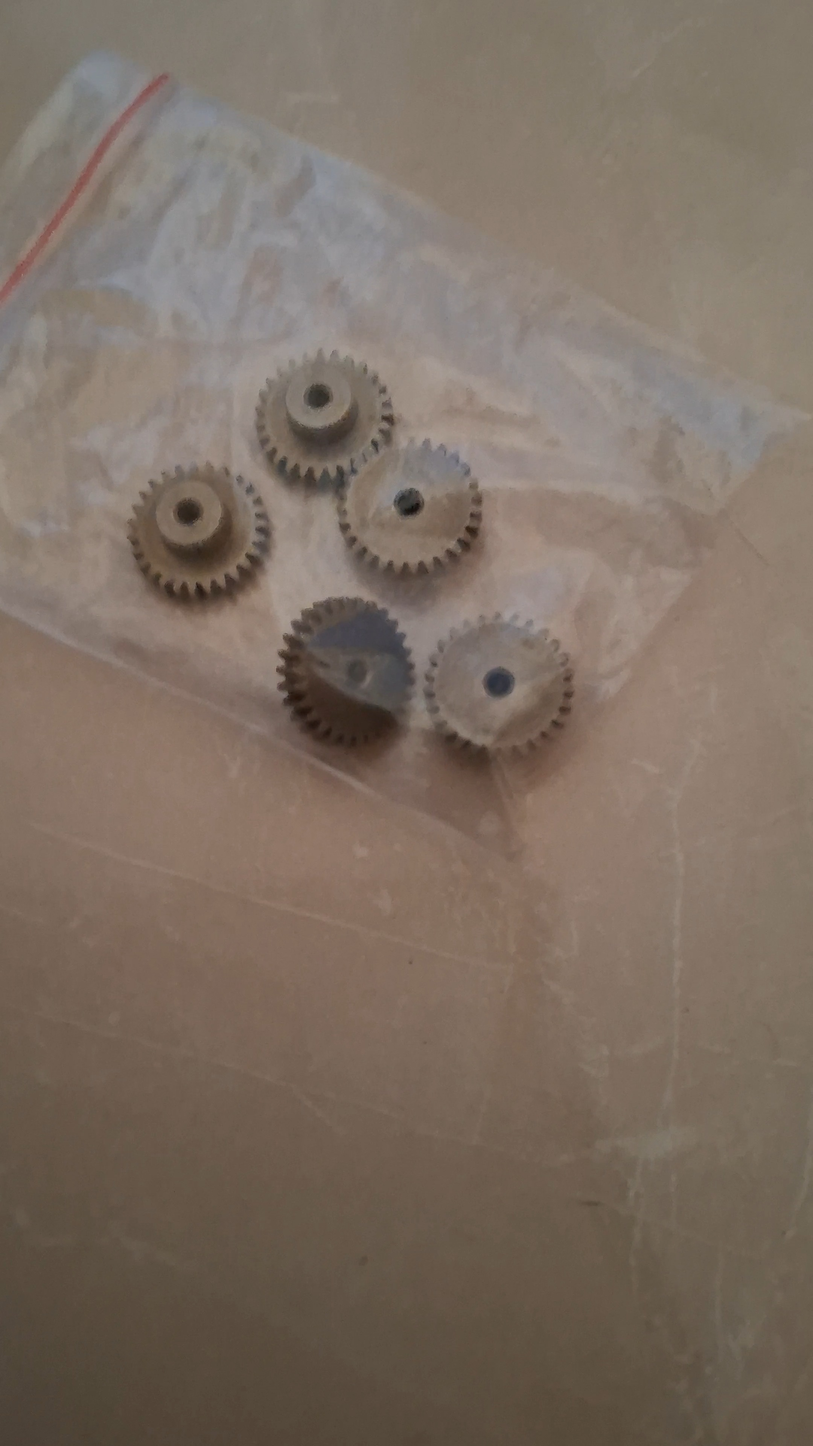spur gear: (425, 615, 573, 750), (278, 599, 413, 744), (338, 439, 482, 573), (128, 464, 269, 597), (256, 351, 394, 484)
